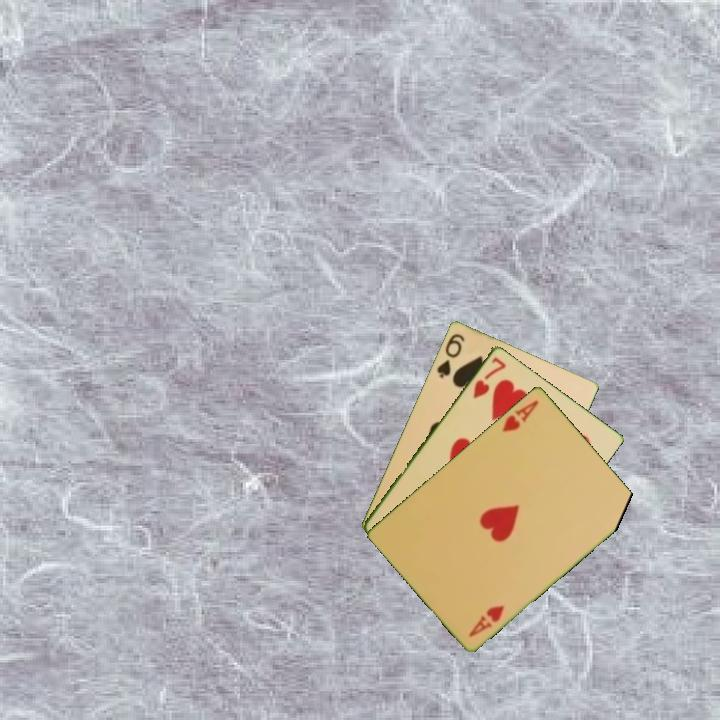6s: (433, 330, 467, 381)
7h: (469, 353, 509, 401)
Ah: (465, 601, 507, 640), (498, 396, 541, 434)
